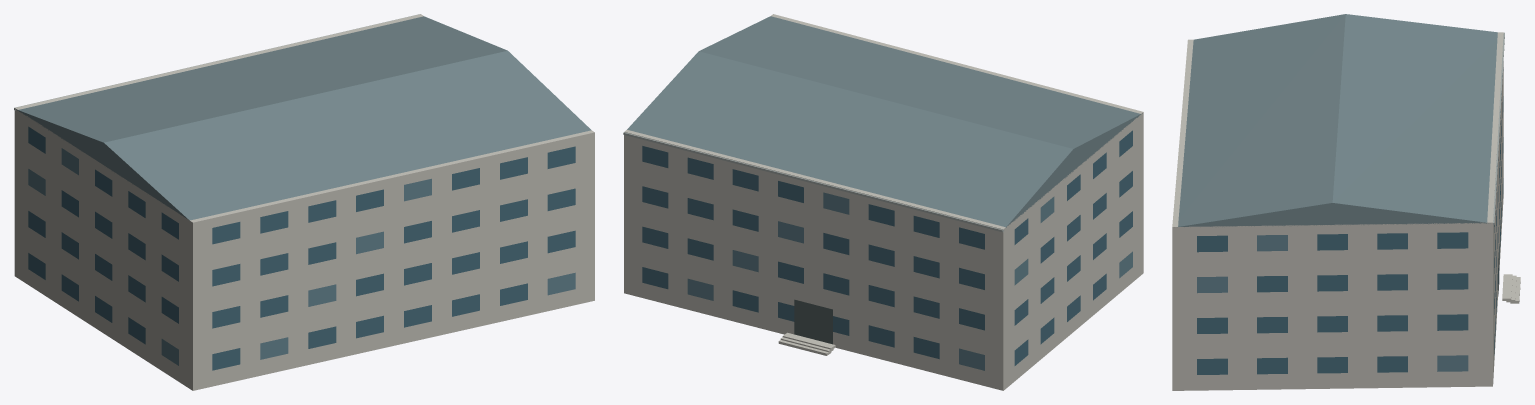
The model's file is 核心区南侧-007.glb.
3 views of the same model, side by side, from view 1: azimuth 30°, elevation 25°; view 2: azimuth 150°, elevation 25°; view 3: azimuth 270°, elevation 25° (orthographic). The views are drawn at different scales.
Parts seen in each view (by area): view 1: 核心区南侧-007; view 2: 核心区南侧-007; view 3: 核心区南侧-007.
Part boxes in pixels (bbox=[...]): 核心区南侧-007: bbox=[14, 14, 594, 390]; 核心区南侧-007: bbox=[623, 14, 1143, 390]; 核心区南侧-007: bbox=[1172, 14, 1520, 390].
Bounding box in the file's own units: 40.29 × 17.92 × 30.44.
